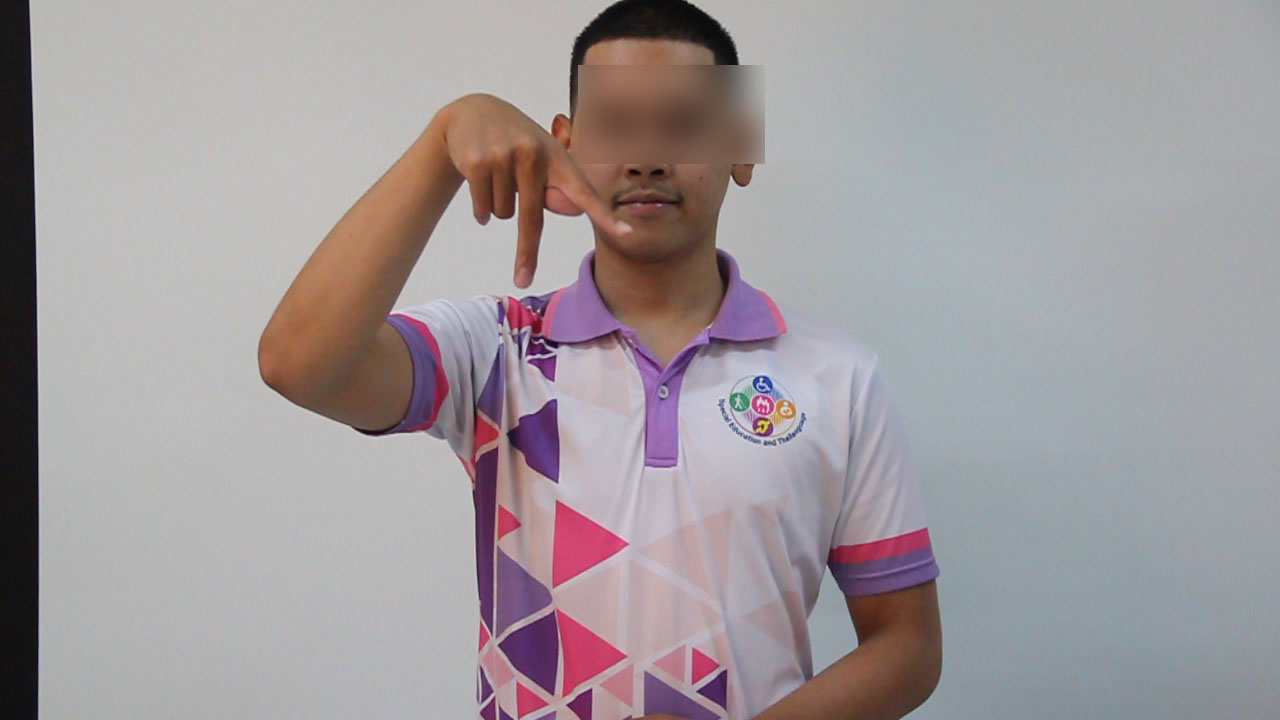por: (424, 64, 638, 299)
